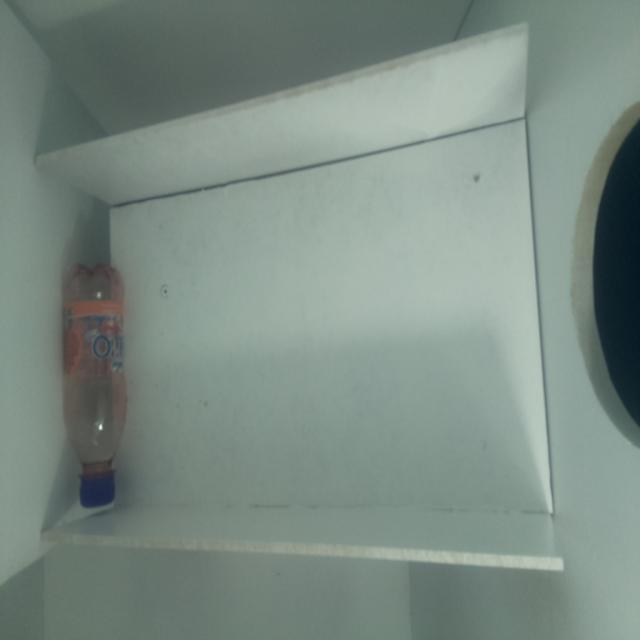good: (41, 239, 153, 526)
